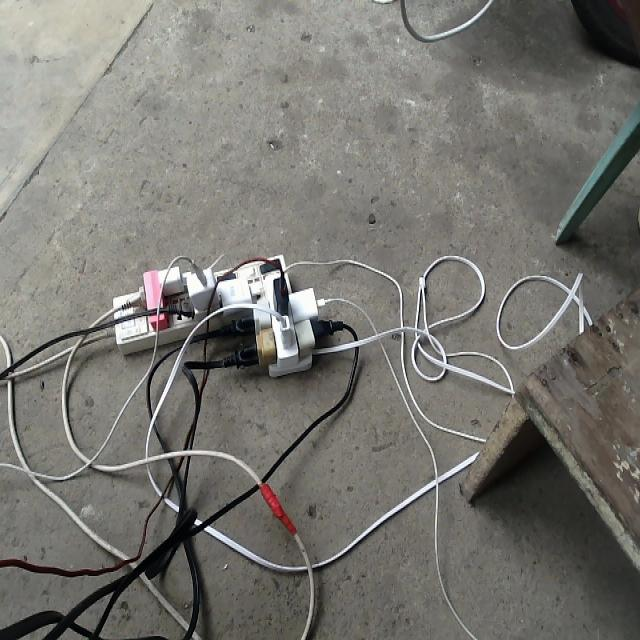-: (106, 243, 368, 393)
